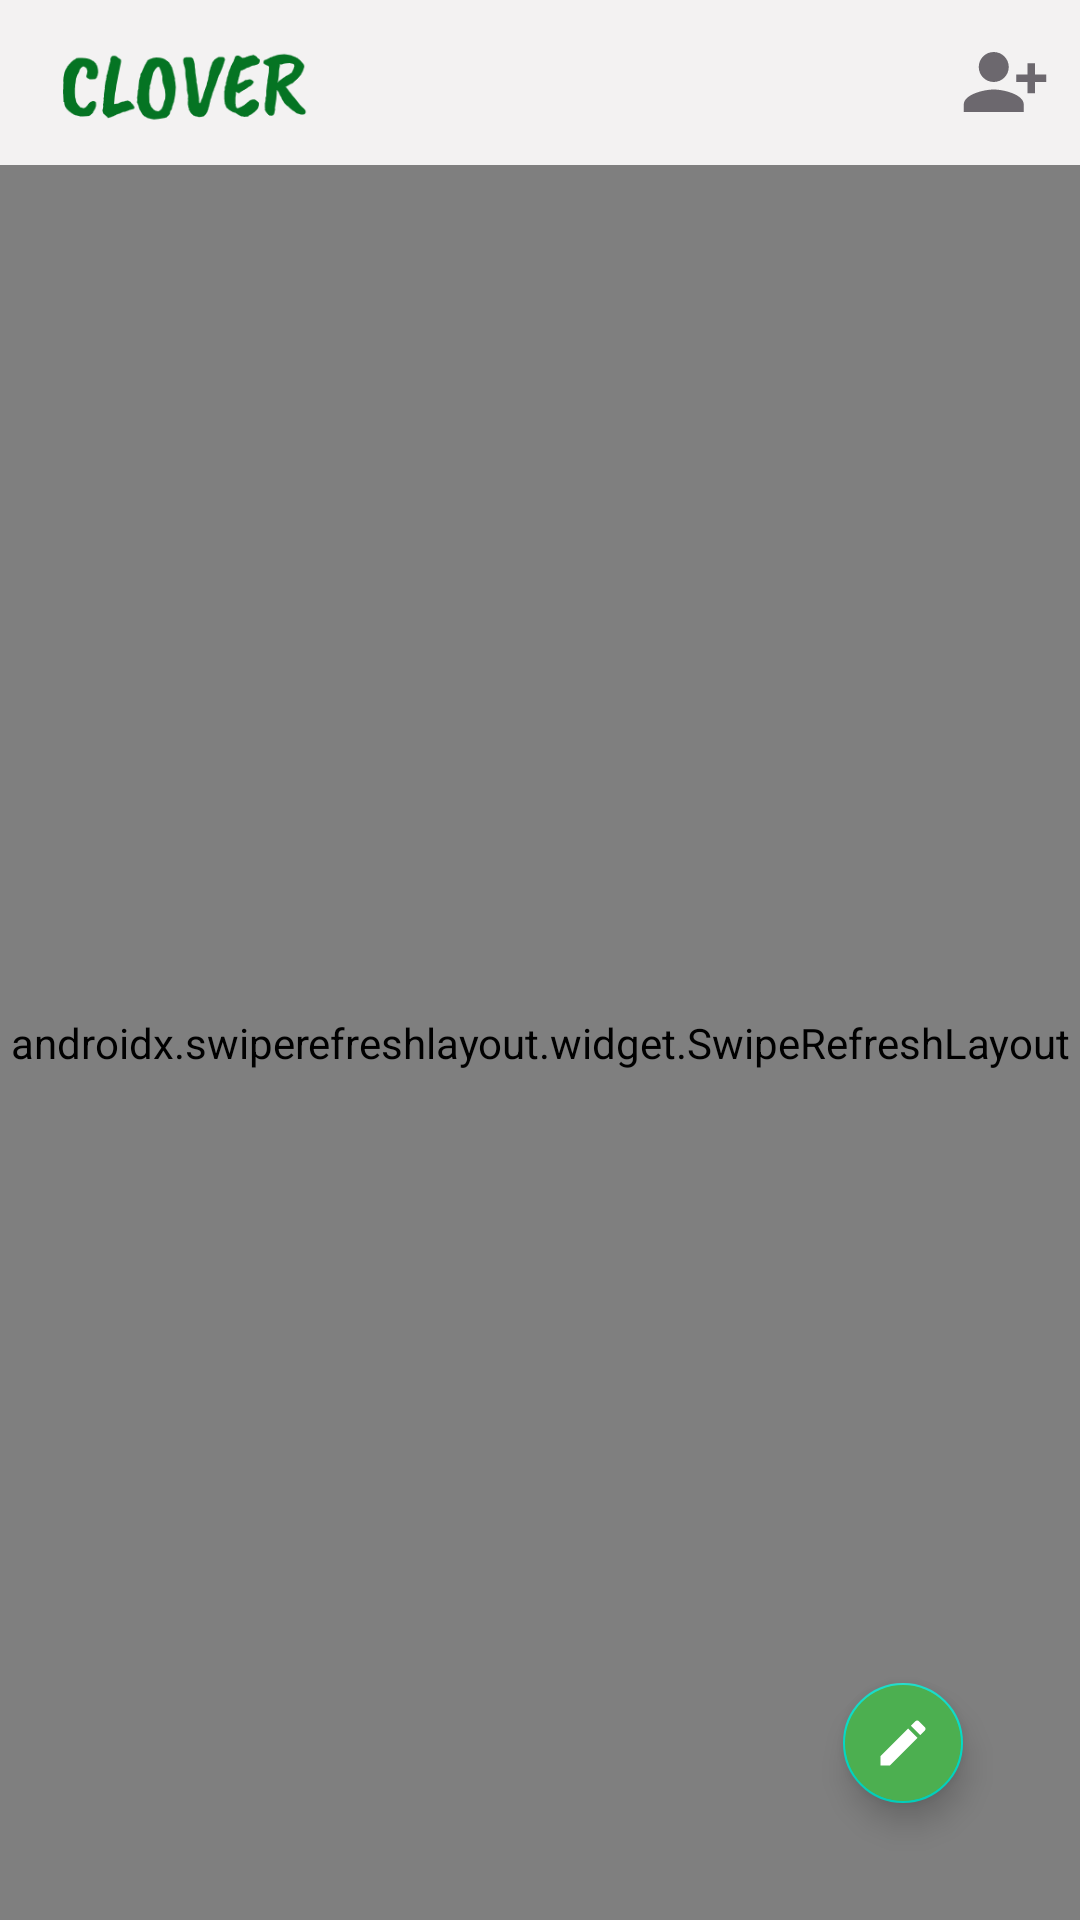

Icon click points for this 1080 × 1920 phone screenshot, format [x,y]:
addfriend: [1005,82]
edit: [903,1743]
